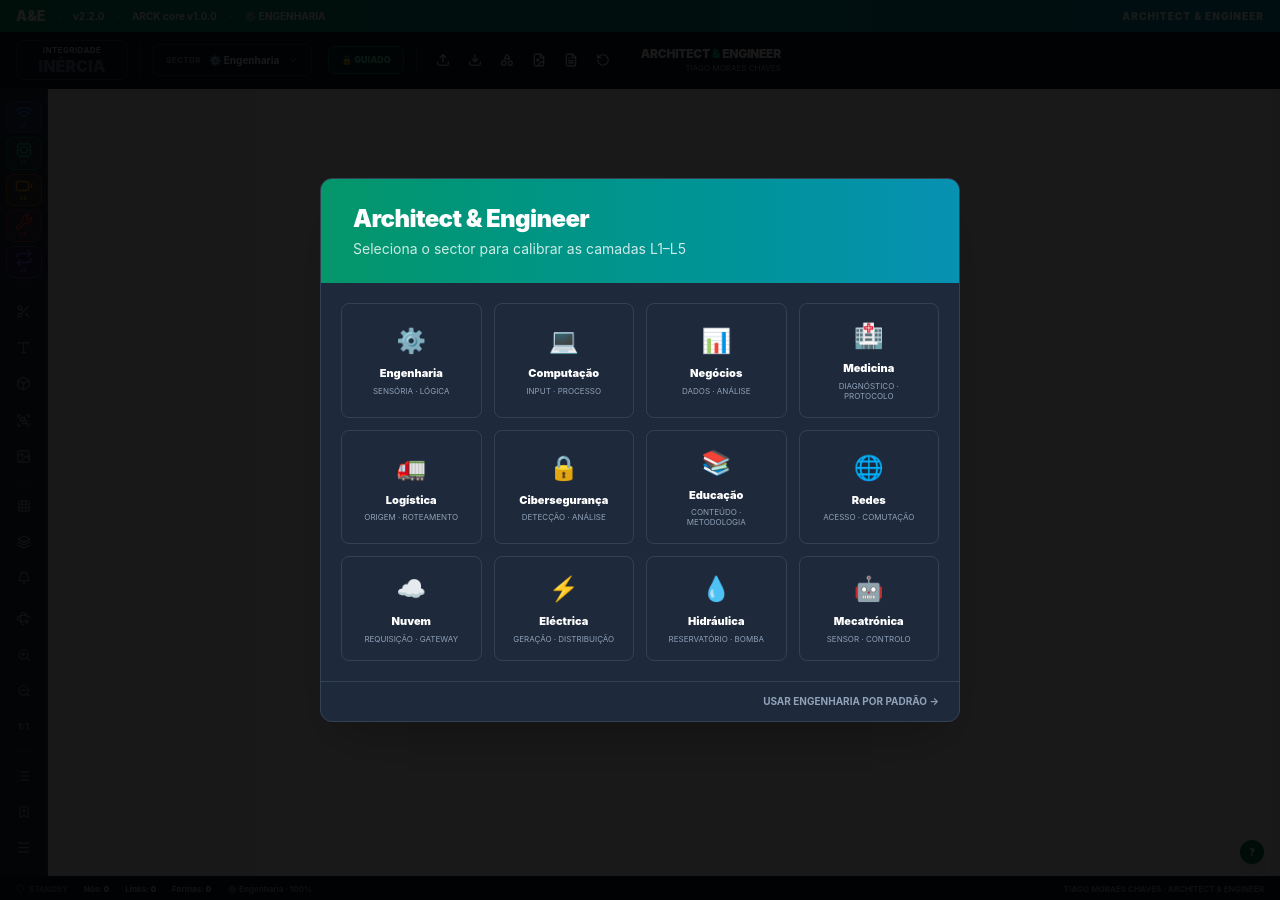
Test: App + reducer do projecto › alternar para Modo Livre muda o rótulo no header
The image size is (1280, 900).
Click the button "USAR ENGENHARIA POR PADRÃO →".
click(851, 701)  # box [763,694,939,709]
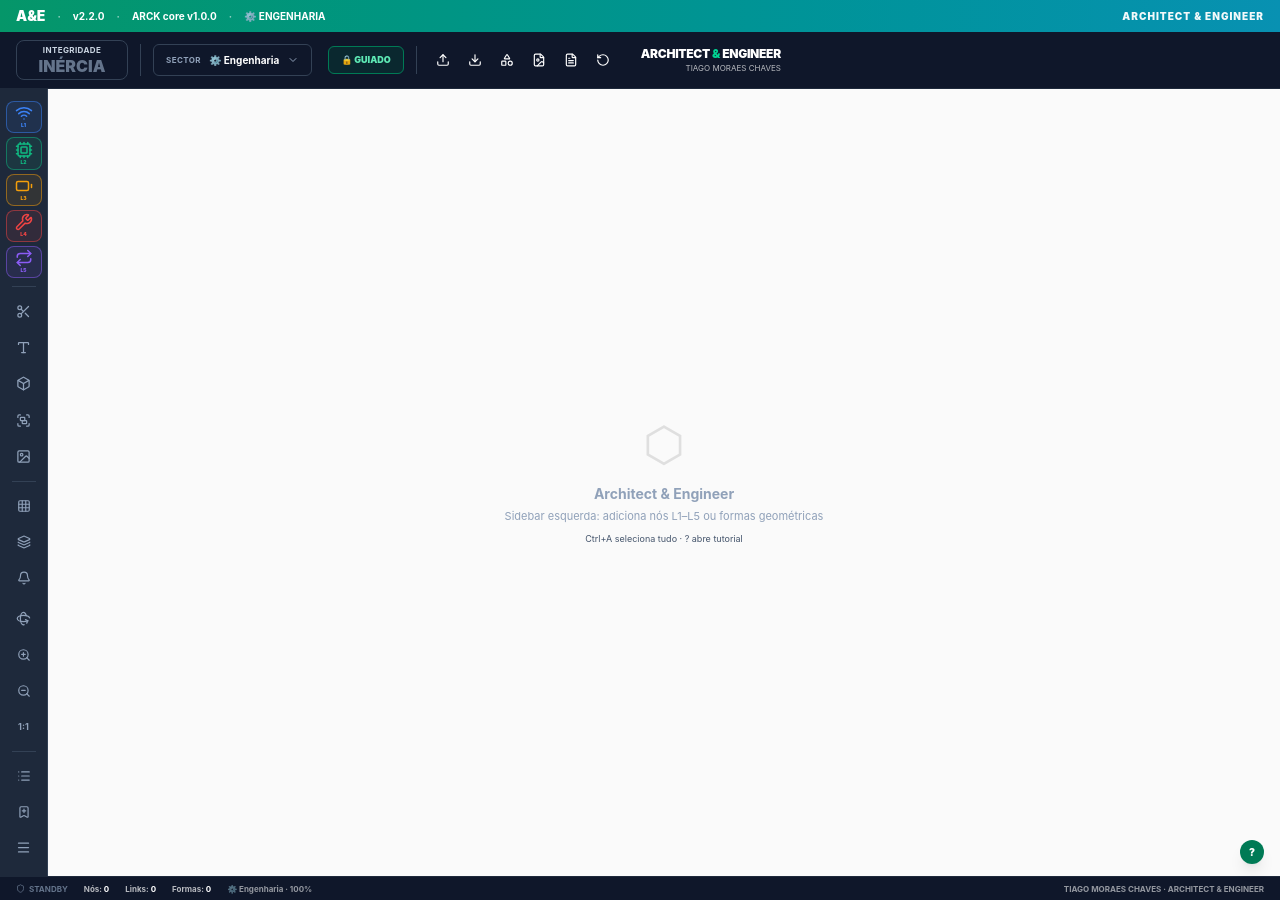
Click the button "🔒 GUIADO".
click(366, 60)  # box [328,46,404,74]
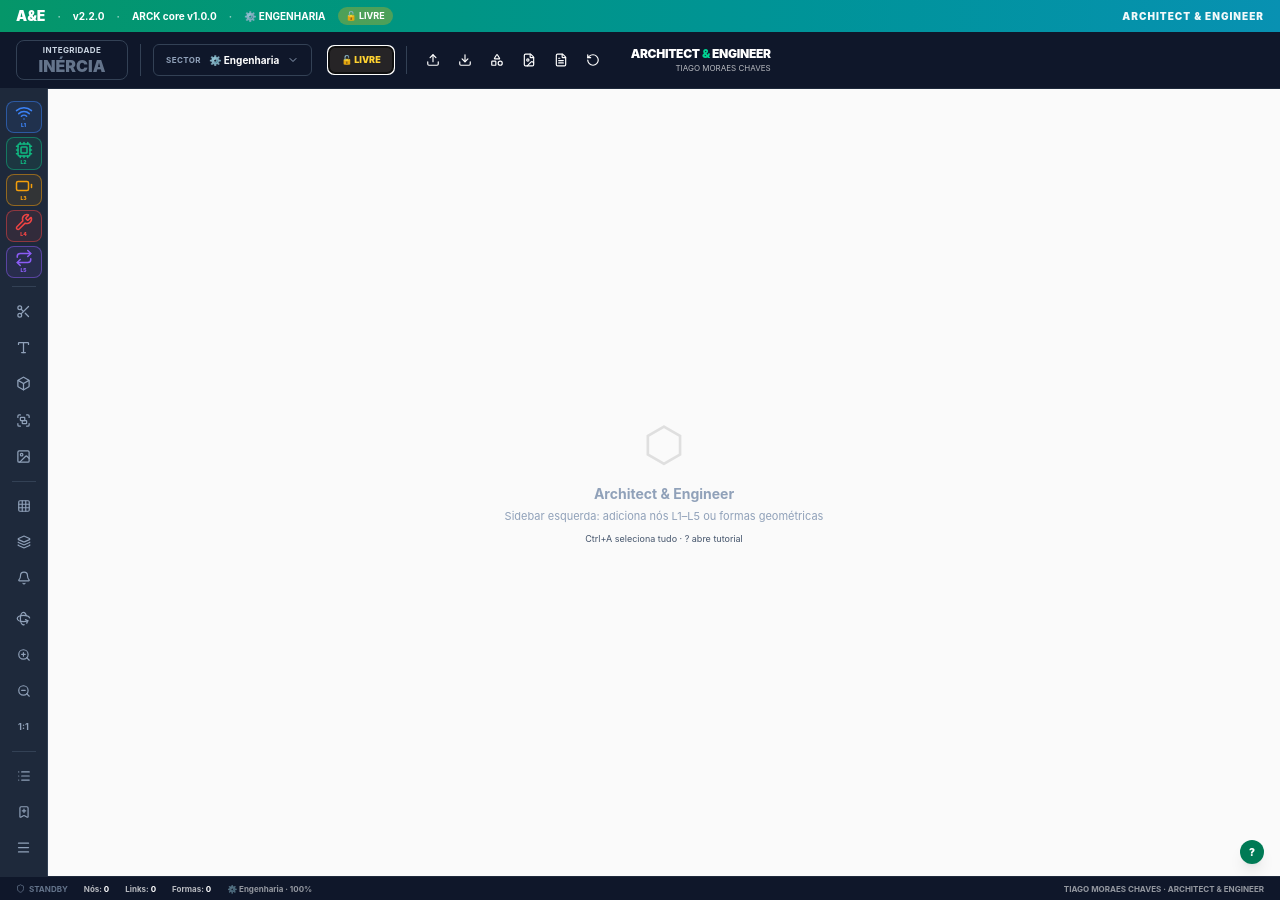
Result: the button "🔓 LIVRE" is shown at [328,46,394,74]
